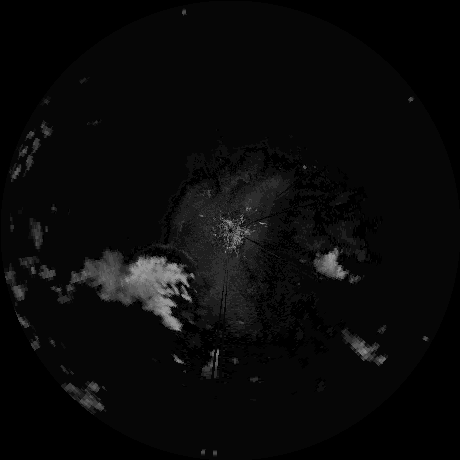frontgust: (141, 243, 201, 269)
